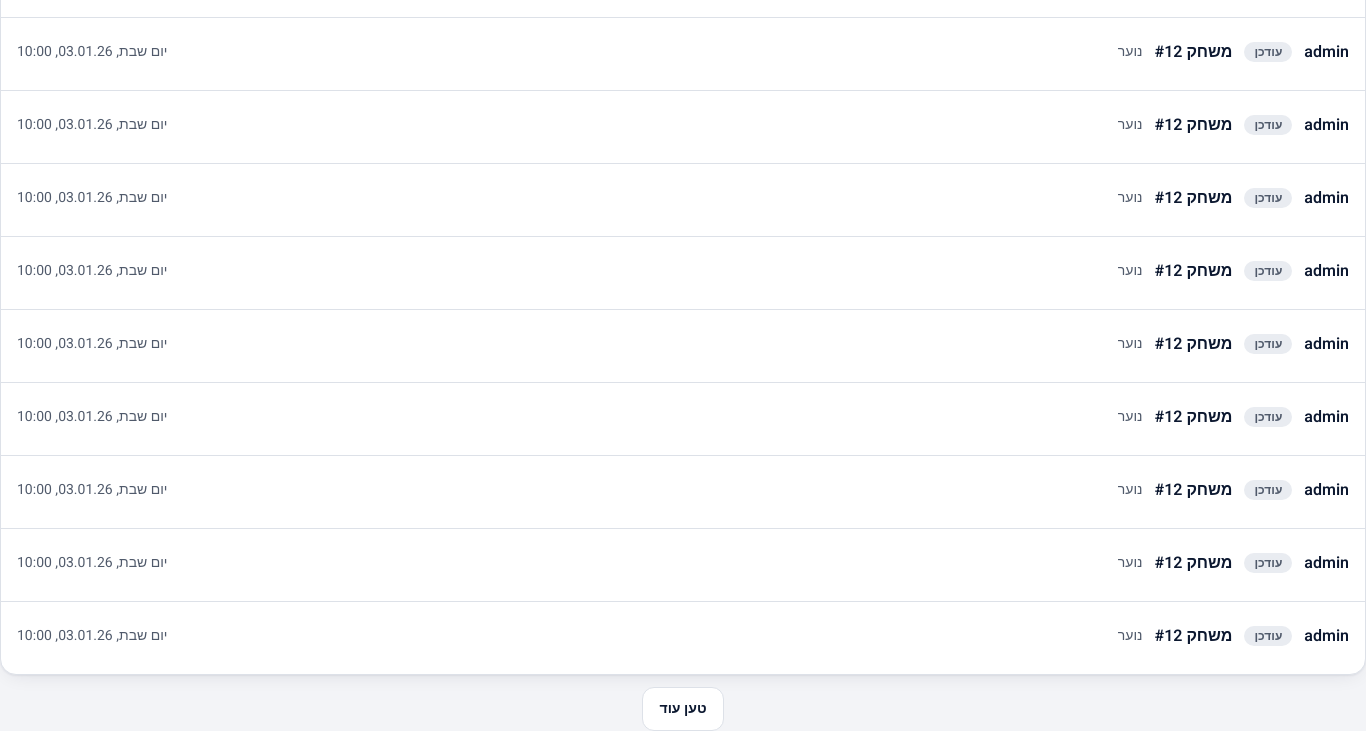
it: AdminAuditView › load more failure keeps loaded rows and shows an inline alert
The image size is (1366, 731).
(page scrolled)
Click the button with test id "load-more": (683,709) x1=642 y1=687 x2=724 y2=730
(page scrolled)
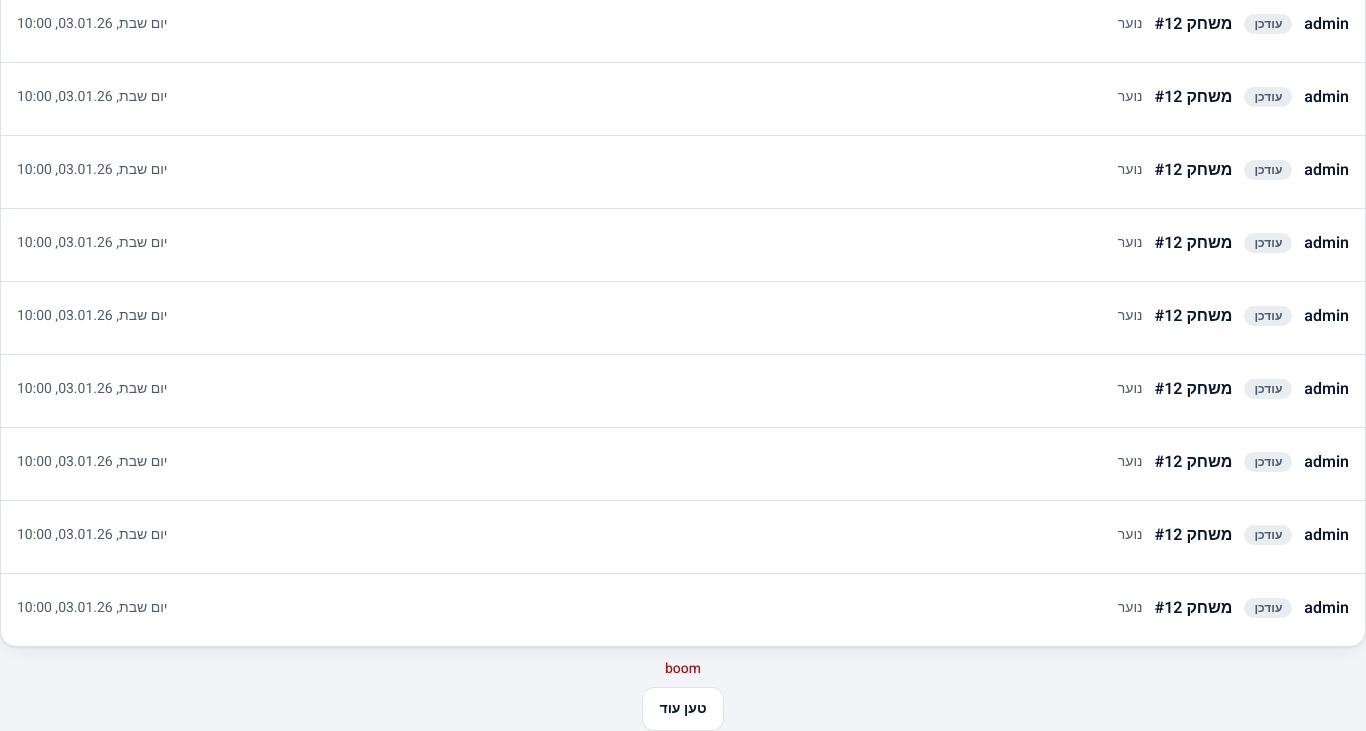
Expected: the message "boom" is shown, x1=665 y1=659 x2=701 y2=679
